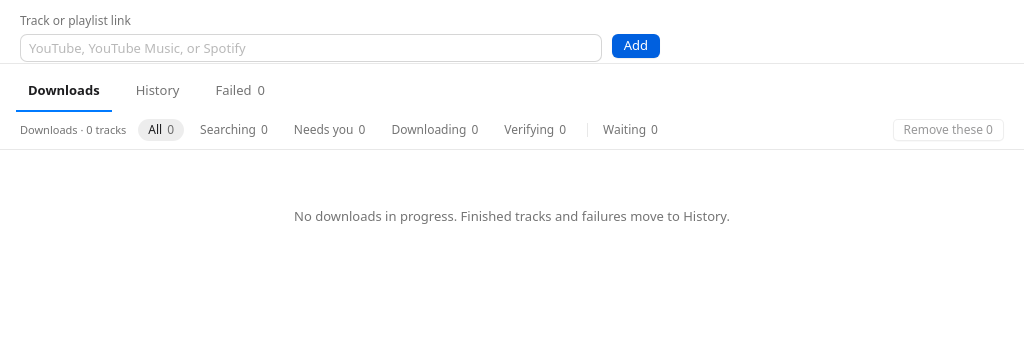
Test: filter bar, remove and clear failed › Clear failed is disabled when there are no failed rows
What coordinates should you click on to do the following:
click the tab "History"
I would click on:
 (158, 92)
Its box is [124,72,191,112].
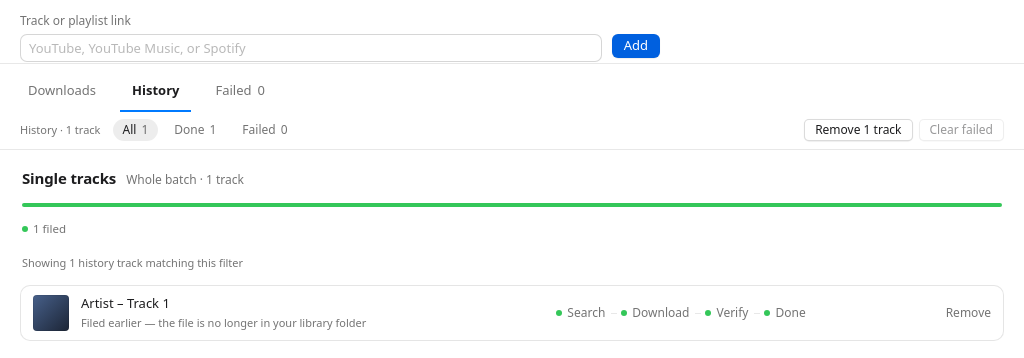
Expected: the button "Clear failed" is disabled, [918,119,1004,141]
